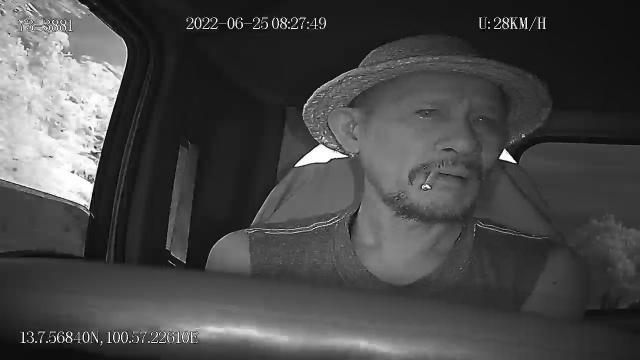SafeDriving: (408, 99, 448, 124), (466, 107, 499, 132)
Smoking: (418, 168, 442, 192)
